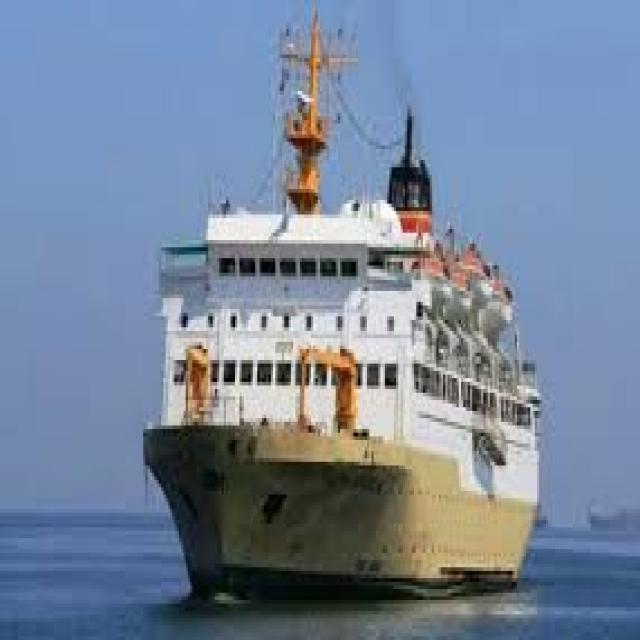PassengerShip: (90, 71, 564, 593)
